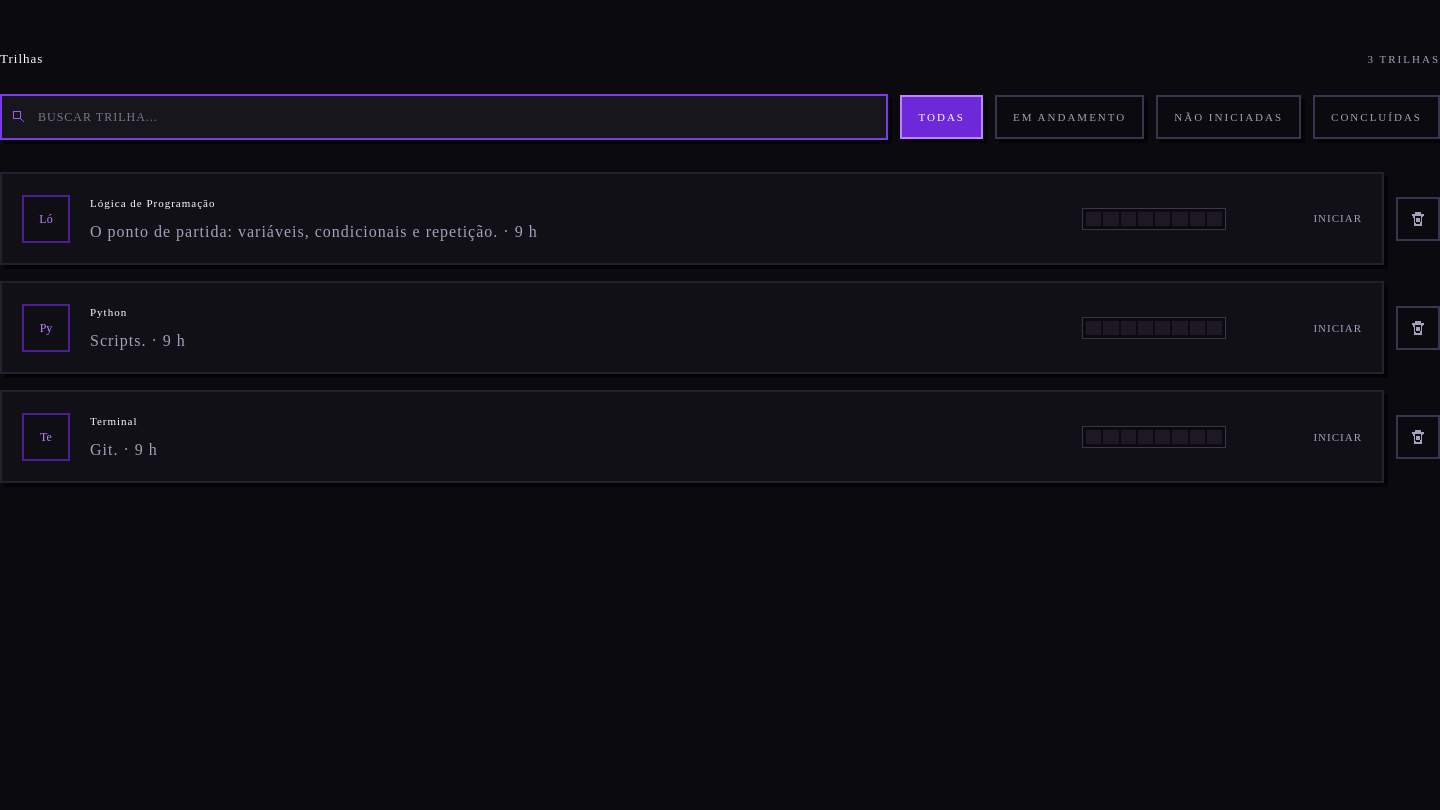
Test: ListaDeTrilhas: moderação › exclui com motivo obrigatório e tira a trilha da lista
Click the button named "Excluir trilha publicada: Python" at coordinates (1418, 328), box [1396,306,1439,350]
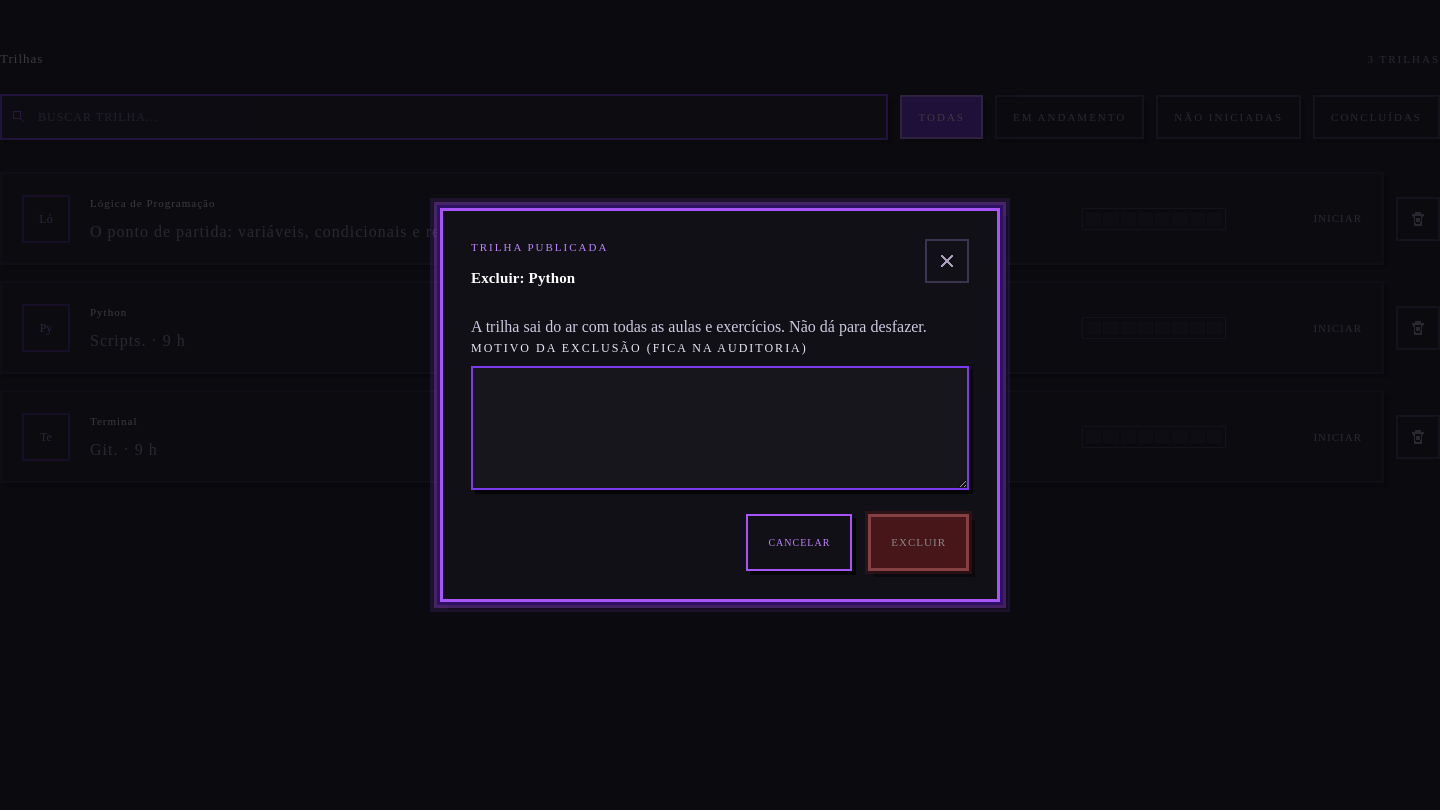
Check: the button "EXCLUIR" is disabled, box [868,514,969,571]
Type "  Conteúdo duplicado. " into the text box labelled "MOTIVO DA EXCLUSÃO (FICA NA AUDITORIA)" at coordinates (720, 428), box [471,366,969,490]
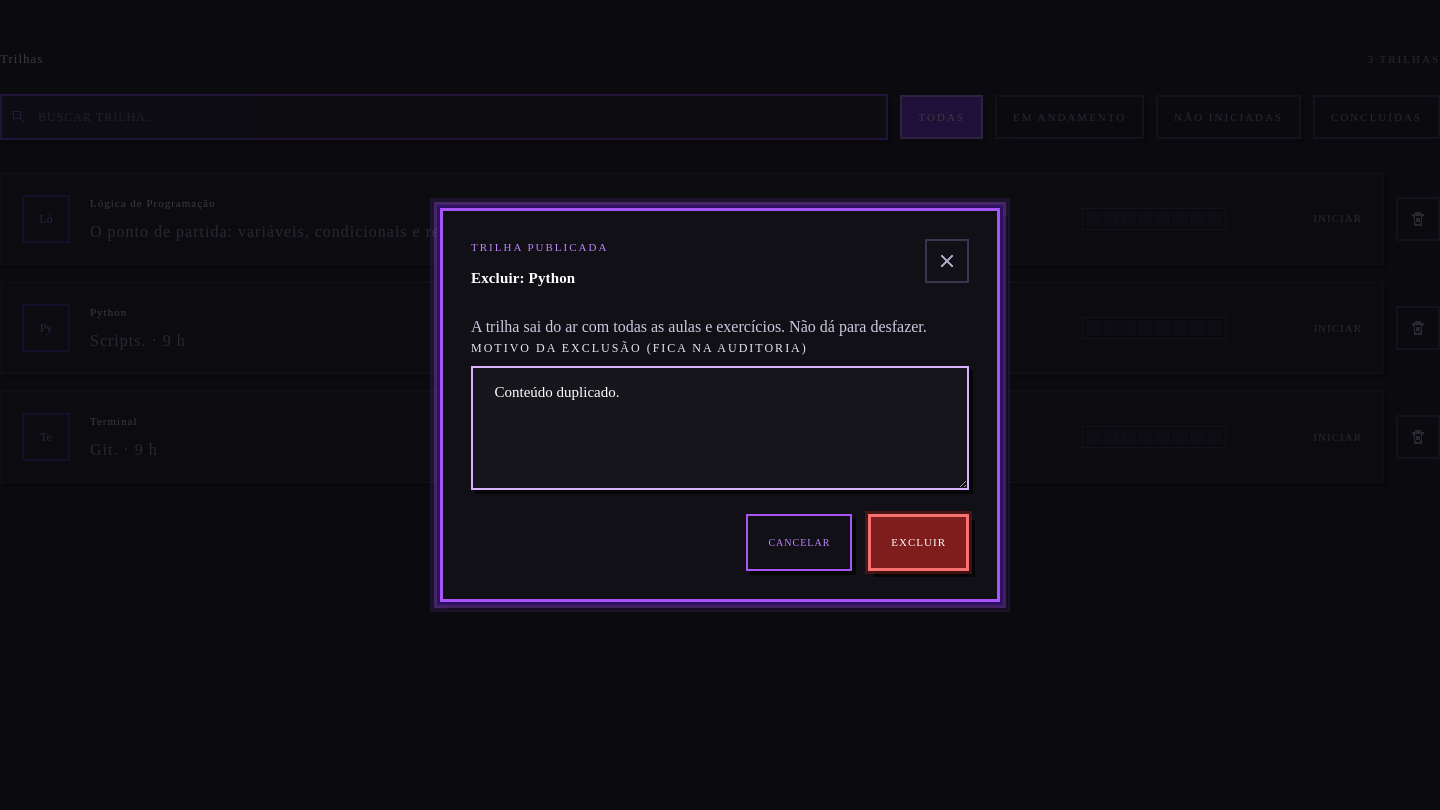
Click the button "EXCLUIR" at coordinates (919, 543), box [868,514,969,571]
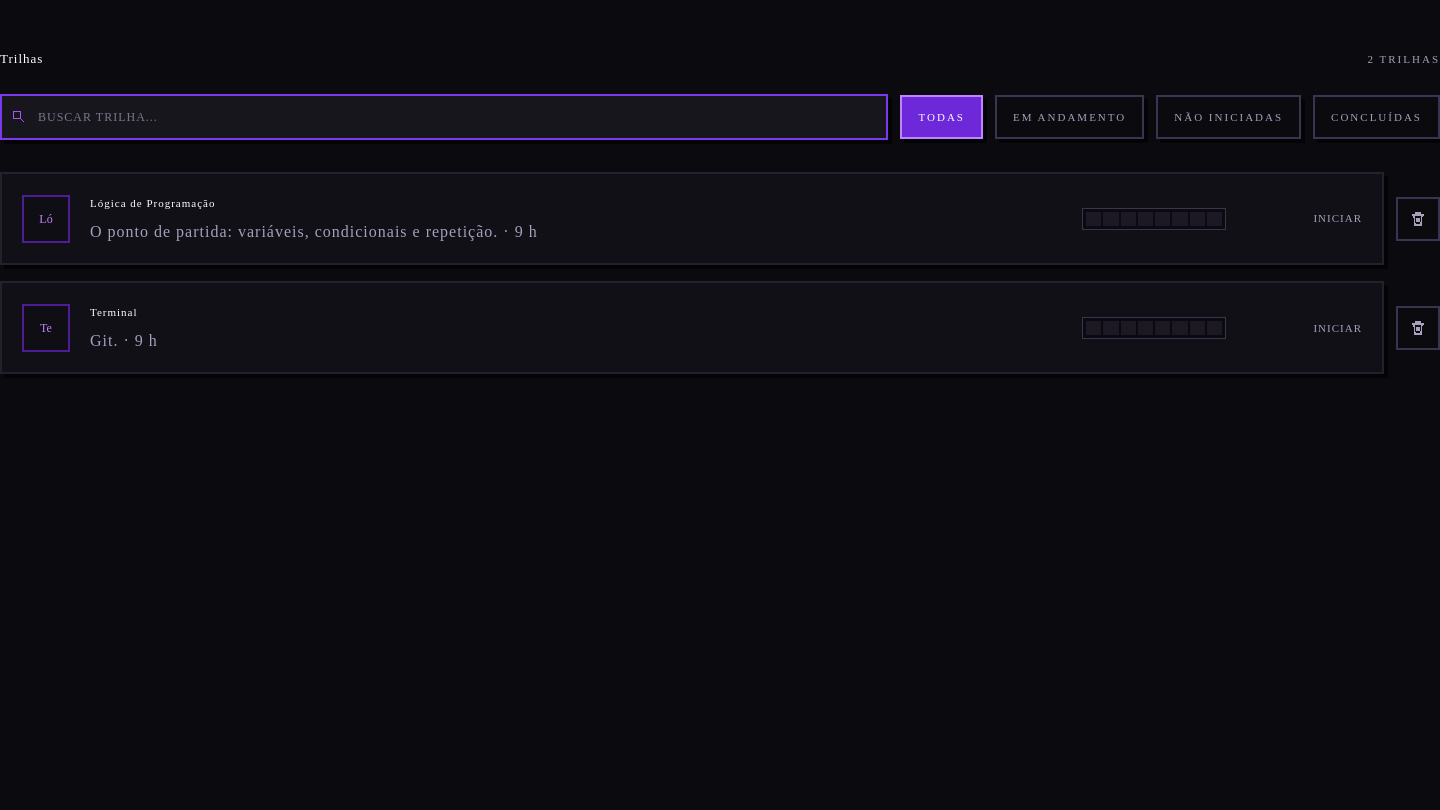
Check: the text "2 trilhas" is shown, box [1368,51,1439,67]
